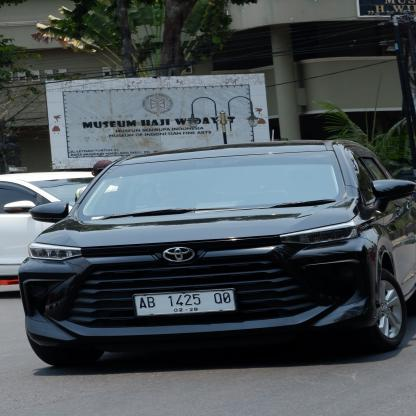Plat-Nomor: (128, 286, 246, 319)
